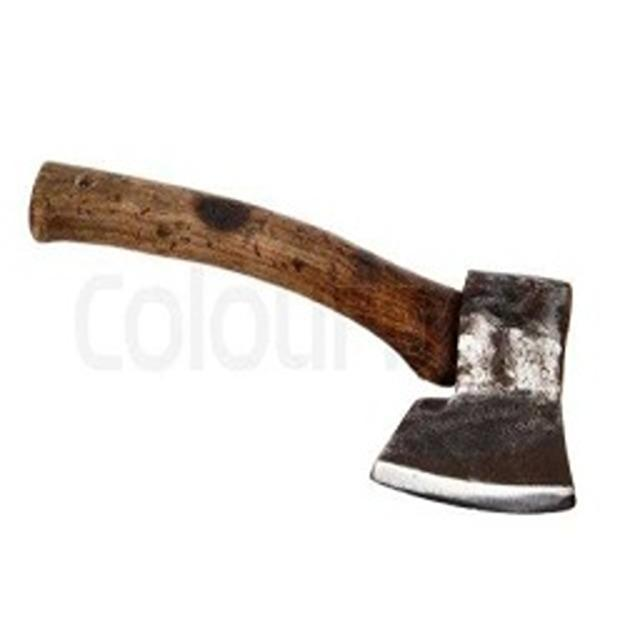ax: (21, 151, 582, 520)
